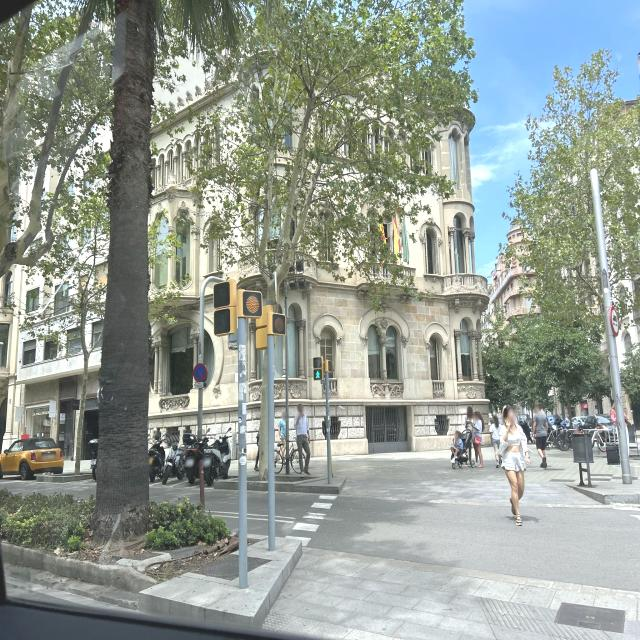bike: (178, 434, 230, 486)
car: (0, 435, 64, 479)
